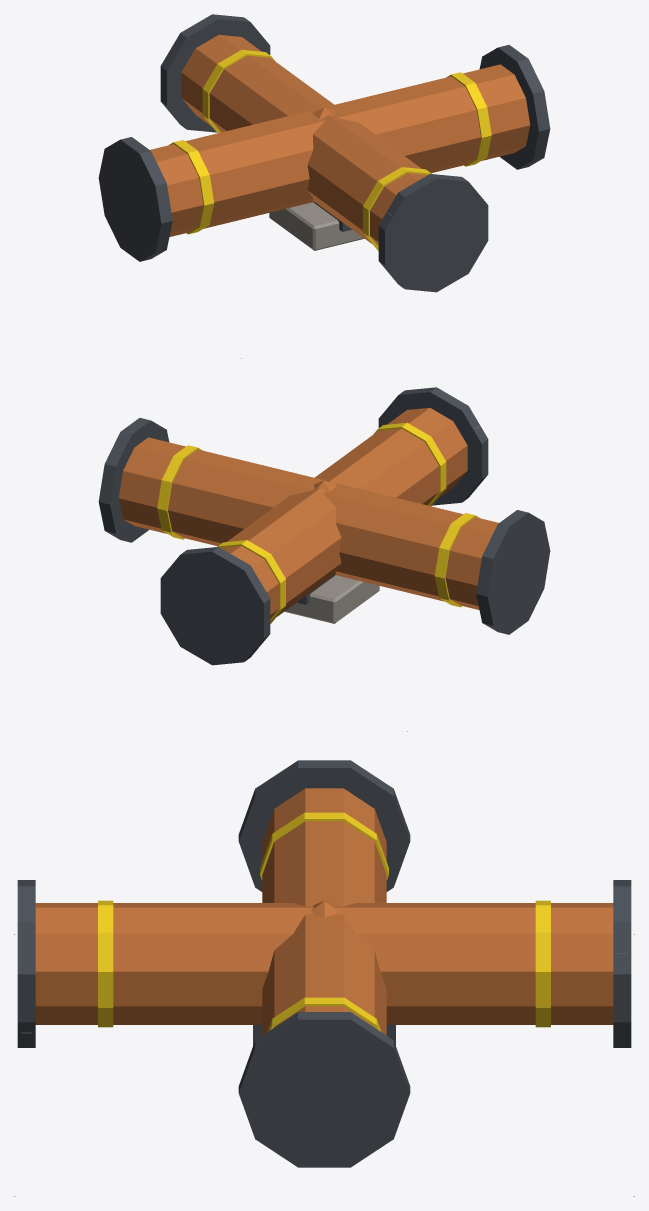
File: tuyau_croix_t1.glb
3 views of the same model, one above another, from view 1: azimuth 30°, elevation 25°; view 2: azimuth 150°, elevation 25°; view 3: azimuth 270°, elevation 25° (orthographic). The views are drawn at different scales.
Parts seen in each view (by area): view 1: pieces_cuivre.020, pieces_acier_sombre.050, pieces_rive_t1.016, pieces_beton.030; view 2: pieces_cuivre.020, pieces_acier_sombre.050, pieces_rive_t1.016, pieces_beton.030; view 3: pieces_cuivre.020, pieces_acier_sombre.050, pieces_rive_t1.016.
Part boxes in pixels (<box>): pieces_cuivre.020: <box>150,34,530,245</box>; pieces_acier_sombre.050: <box>98,14,550,292</box>; pieces_rive_t1.016: <box>169,49,491,250</box>; pieces_beton.030: <box>269,202,364,250</box>; pieces_cuivre.020: <box>118,407,498,618</box>; pieces_acier_sombre.050: <box>98,387,550,665</box>; pieces_rive_t1.016: <box>157,422,479,623</box>; pieces_beton.030: <box>284,575,379,623</box>; pieces_cuivre.020: <box>35,788,613,1035</box>; pieces_acier_sombre.050: <box>17,760,631,1167</box>; pieces_rive_t1.016: <box>98,812,550,1031</box>.
Bounding box in the file's own units: 1 × 0.318 × 1.
